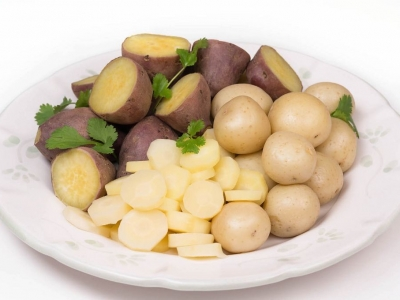boiled potatoes: (63, 28, 353, 251)
